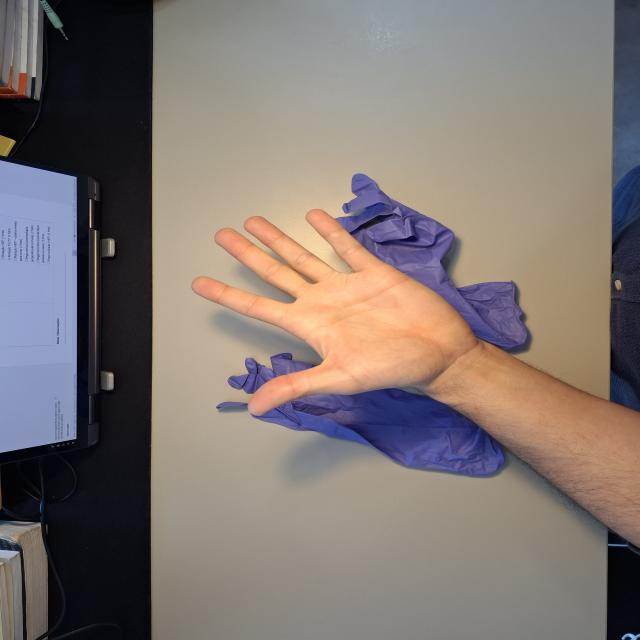glove_off: (190, 208, 482, 417)
